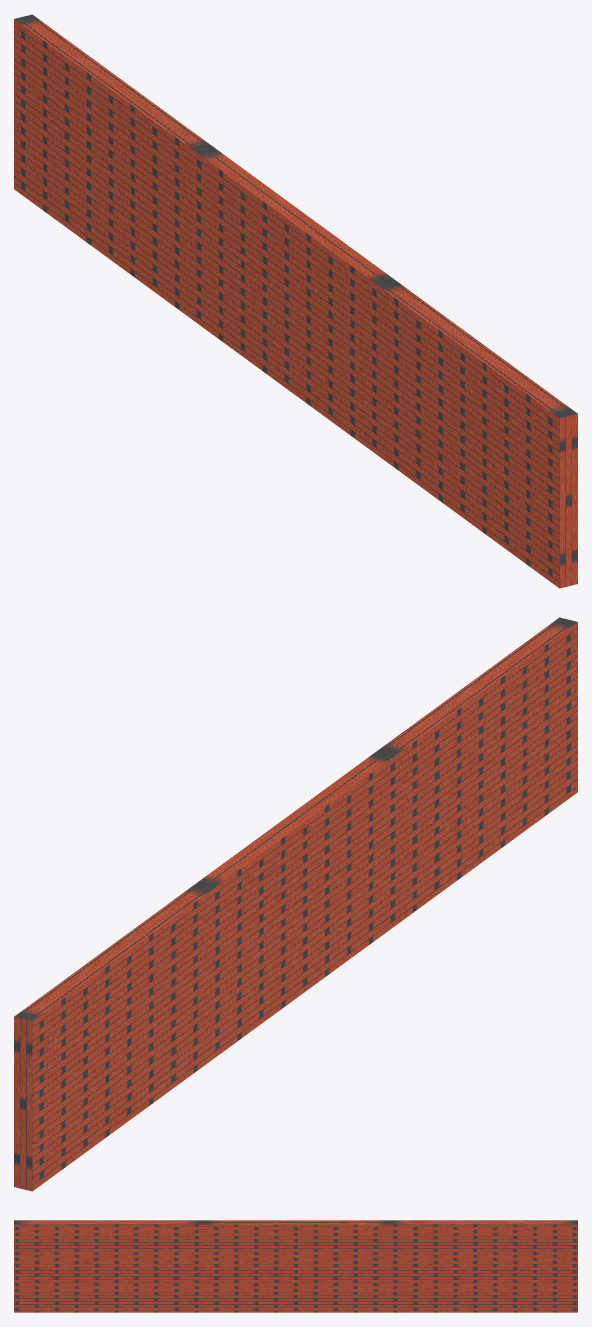
Rendered from rotationwall.gltf.
3 renders of one model, top to bottom at view 1: azimuth 30°, elevation 25°; view 2: azimuth 150°, elevation 25°; view 3: azimuth 270°, elevation 25°, orthographic. The views are drawn at different scales.
Visible parts, largest first — view 1: Cube; view 2: Cube; view 3: Cube.
Boxes of the visible parts, x1,y1,x2,y2 form: Cube: [14, 14, 577, 588]; Cube: [14, 617, 577, 1191]; Cube: [14, 1220, 577, 1312].
Bounding box in the file's own units: 0.3984 × 3.51 × 20.39.
1 material, 1 textured.
